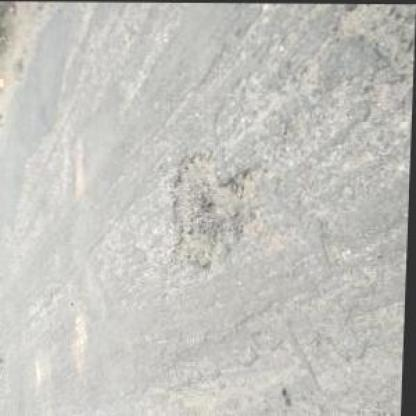pothole: (165, 150, 268, 269)
